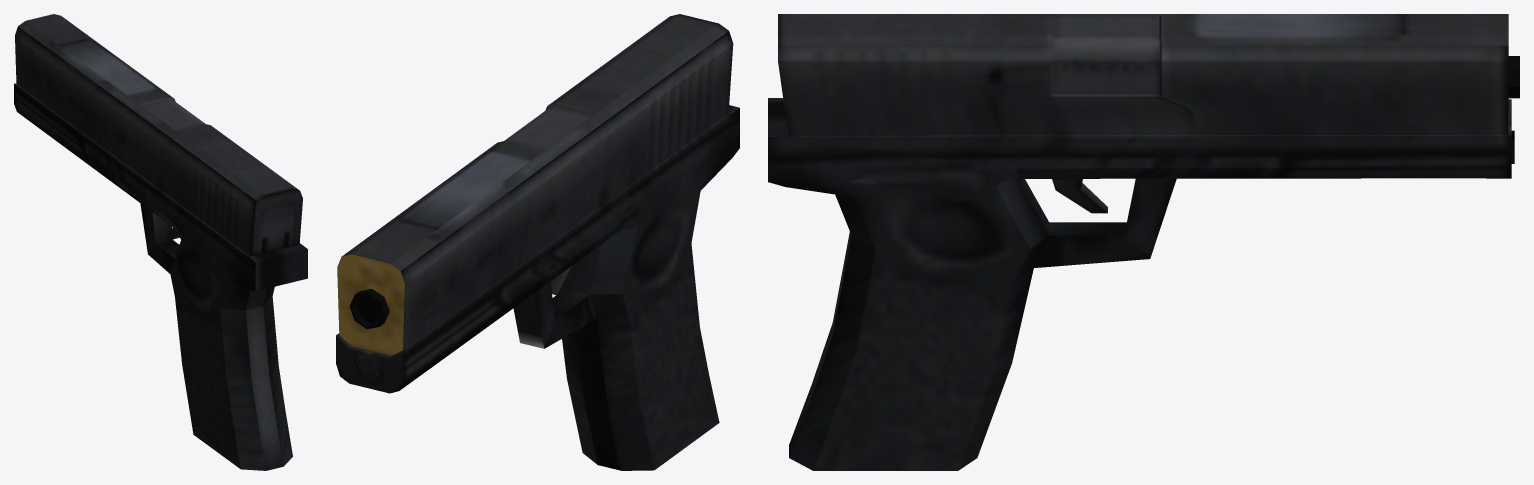
File: Gun.fbx
3 renders of one model, left to right at view 1: azimuth 30°, elevation 25°; view 2: azimuth 150°, elevation 25°; view 3: azimuth 270°, elevation 25°, orthographic. The views are drawn at different scales.
Parts seen in each view (by area): view 1: Cube; view 2: Cube; view 3: Cube.
Boxes of the visible parts, x1,y1,x2,y2 form: Cube: (14, 14, 307, 470); Cube: (336, 14, 739, 470); Cube: (768, 14, 1519, 470).
Bounding box in the file's own units: 0.2873 × 1.47 × 2.34.
1 material, 1 textured.
